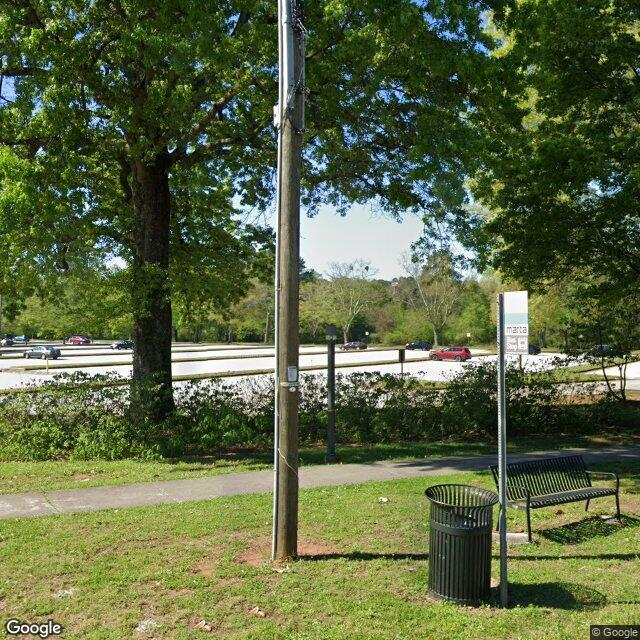seating: (487, 452, 623, 544), (590, 623, 640, 640)
trash_can: (423, 482, 499, 605)
